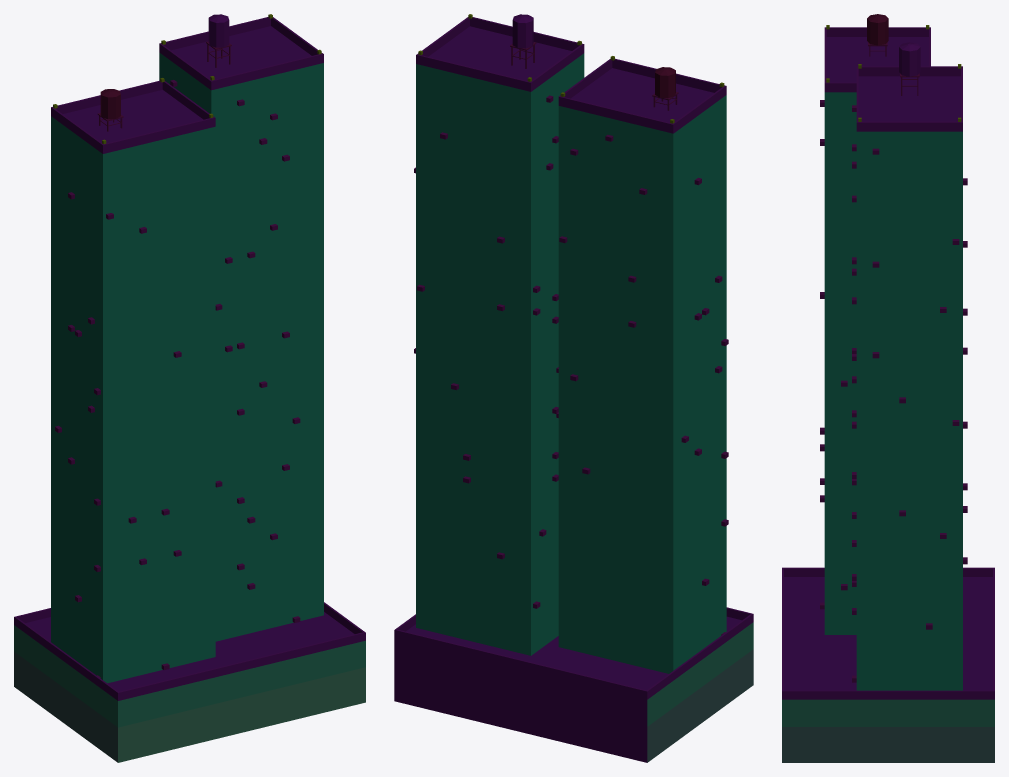
File: estate_a.glb
3 renders of one model, left to right at view 1: azimuth 30°, elevation 25°; view 2: azimuth 150°, elevation 25°; view 3: azimuth 270°, elevation 25°, orthographic. The views are drawn at different scales.
Parts seen in each view (by area): view 1: estate_a; view 2: estate_a; view 3: estate_a.
Part boxes in pixels (x1=…): estate_a: x1=14, y1=14, x2=365, y2=762; estate_a: x1=394, y1=14, x2=753, y2=762; estate_a: x1=782, y1=14, x2=994, y2=762.
Size of the model in its own units: 35.2 by 89.73 by 25.6.
